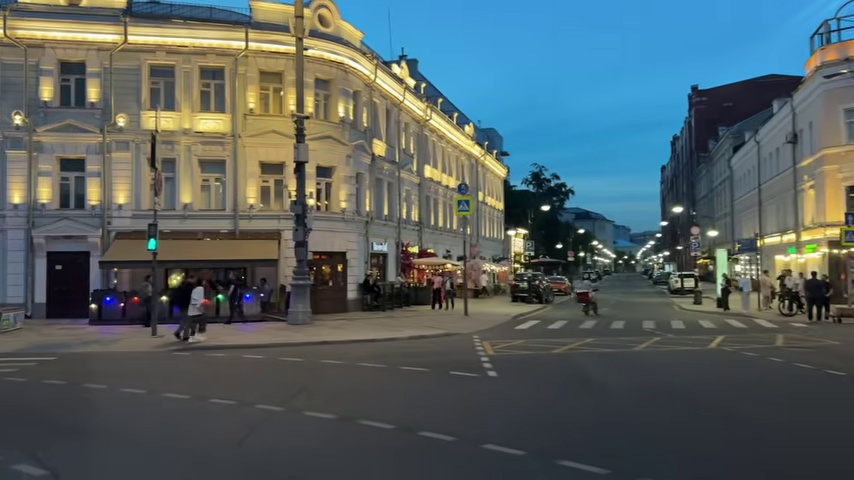acesa: (670, 203, 685, 217)
